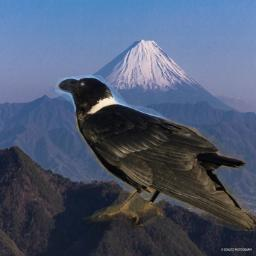Crow: (55, 72, 256, 231)
